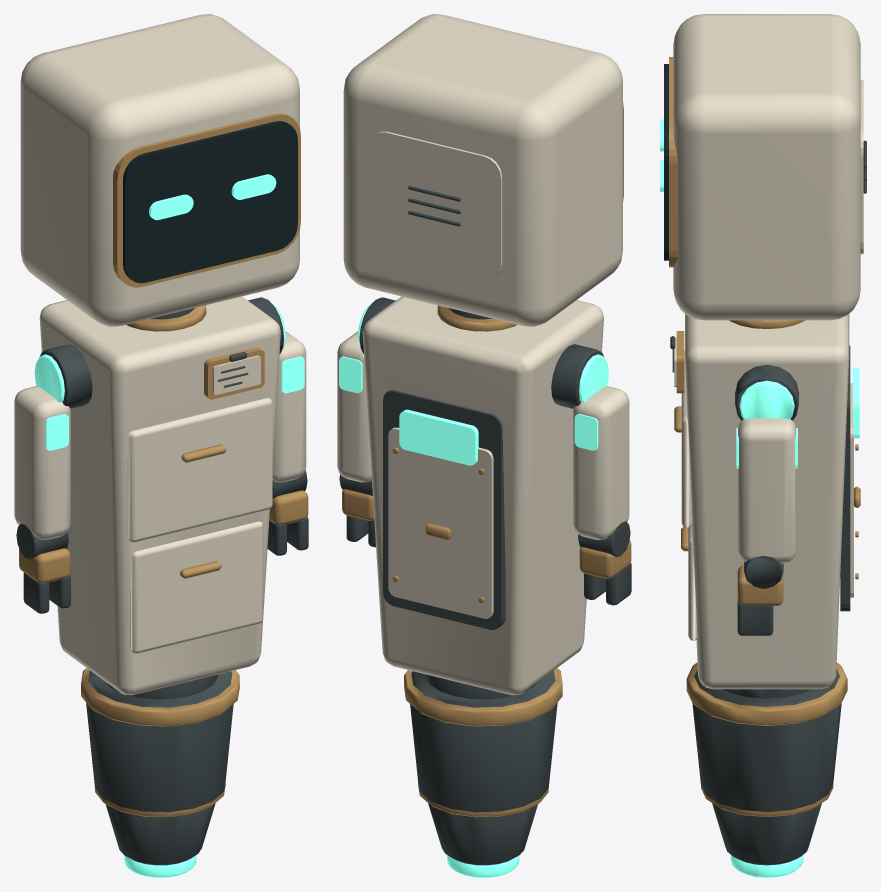
File: ArchiveRobot_v1.fbx
The picture shows the model from 3 angles, left to right: view 1: azimuth 30°, elevation 25°; view 2: azimuth 150°, elevation 25°; view 3: azimuth 270°, elevation 25°; orthographic projection.
Visible parts, largest first — view 1: Body, Head, FaceScreen, Thruster, Arm_R, Thruster_Nozzle, Arm_L, FaceFrame, Thruster_Rim, Hand_R, Badge, Hand_L (+9 smaller); view 2: Head, Body, ServicePanel, Thruster, Arm_R, Thruster_Nozzle, Arm_L, Thruster_Rim, Accent_Back, Hand_R, Shoulder_R, Hand_L (+6 smaller); view 3: Head, Body, Thruster, Arm_L, Thruster_Nozzle, Thruster_Rim, ServicePanel, Hand_L, ShoulderAccent_L, FaceFrame, Shoulder_L, Elbow_L (+7 smaller).
Part boxes in pixels (x1,y1,x2,y2): Body: (39,296,280,695); Head: (20,14,299,326); FaceScreen: (123,121,297,283); Thruster: (86,670,233,812); Arm_R: (14,386,70,539); Thruster_Nozzle: (105,803,215,865); Arm_L: (272,331,306,482); FaceFrame: (113,113,300,287); Thruster_Rim: (81,668,239,726); Hand_R: (19,548,70,613); Badge: (204,347,264,399); Hand_L: (267,490,308,555); Head: (343,14,622,326); Body: (362,296,603,695); ServicePanel: (383,390,505,629); Thruster: (410,670,557,812); Arm_R: (573,386,629,539); Thruster_Nozzle: (428,803,537,865); Arm_L: (337,331,371,482); Thruster_Rim: (404,668,562,726); Accent_Back: (399,409,478,465); Hand_R: (579,540,631,605); Shoulder_R: (551,344,603,408); Hand_L: (342,489,375,547); Head: (673,14,866,320); Body: (674,314,849,689); Thruster: (692,669,841,811); Arm_L: (736,418,797,563); Thruster_Nozzle: (712,803,821,865); Thruster_Rim: (686,662,847,725); ServicePanel: (840,345,860,611); Hand_L: (737,565,783,635); ShoulderAccent_L: (739,380,794,419); FaceFrame: (669,57,678,267); Shoulder_L: (735,364,798,420); Elbow_L: (744,556,783,588).
Bounding box in the file's own units: 0.576 × 1.62 × 0.375.
